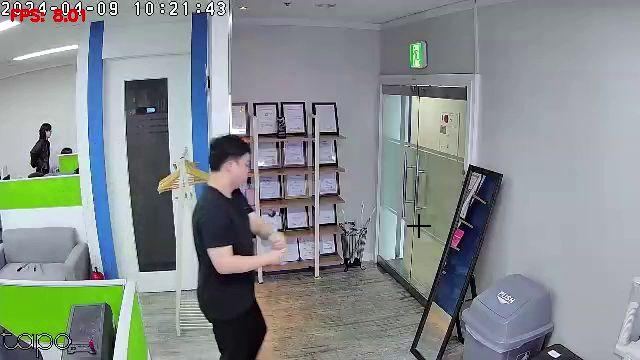hammer: (267, 207, 285, 272)
